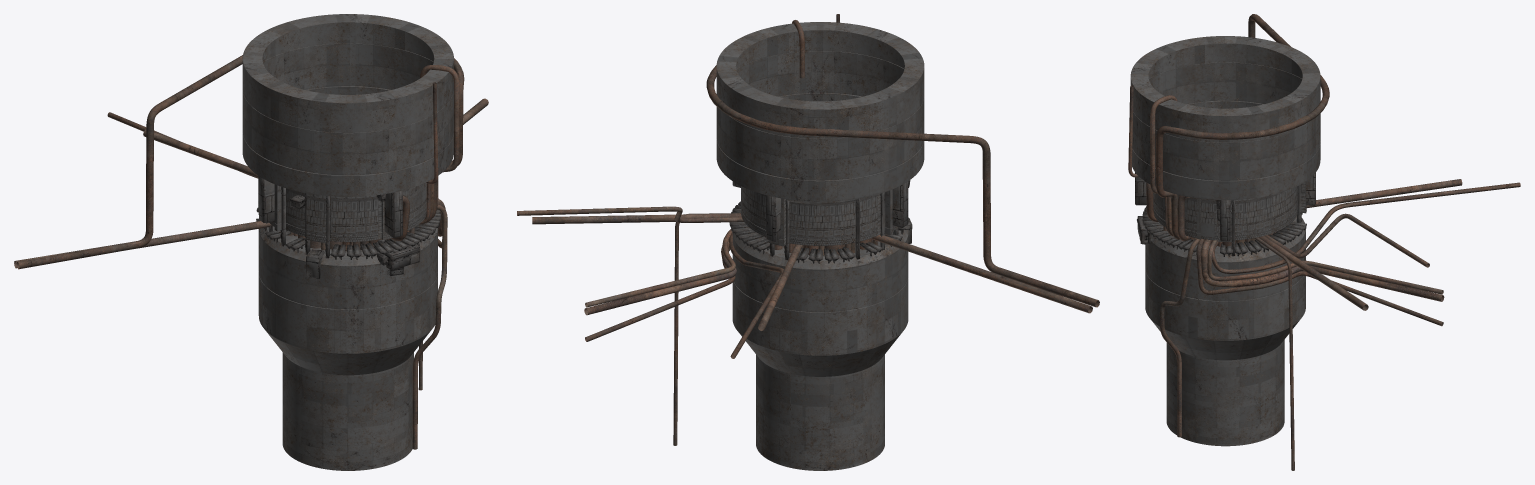
Rendered from CylinderTower1.fbx.
The picture shows the model from 3 angles, left to right: view 1: azimuth 30°, elevation 25°; view 2: azimuth 150°, elevation 25°; view 3: azimuth 270°, elevation 25°; orthographic projection. The views are drawn at different scales.
Parts seen in each view (by area): view 1: Circle, Circle.001, Cylinder, pip.013, CityAsset-3-Apartments_3.026, pip.017, pip.012, pip.009, pip.011, Techblock-9.026, Techblock-9.023, Techblock-9.031; view 2: Circle, Circle.001, Cylinder, pip.013, pip.012, CityAsset-3-Apartments_3.026, pip.015, pip.016, pip.008, pip.007, pip.010, pip.003 (+4 smaller); view 3: Circle, Circle.001, Cylinder, pip.013, pip.008, pip.002, CityAsset-3-Apartments_3.026, pip.007, pip.003, pip.017, pip.011, pip.010 (+5 smaller).
Boxes of the visible parts, x1,y1,x2,y2 form: Circle: (242,14,453,196); Circle.001: (258,226,437,470); Cylinder: (266,182,426,242); pip.013: (16,55,464,269); CityAsset-3-Apartments_3.026: (256,207,440,259); pip.017: (412,204,447,449); pip.012: (14,221,272,268); pip.009: (420,65,459,222); pip.011: (143,129,258,177); Techblock-9.026: (384,190,402,237); Techblock-9.023: (258,176,274,223); Techblock-9.031: (374,239,420,270); Circle: (716,22,924,201); Circle.001: (732,229,908,470); Cylinder: (741,186,900,246); pip.013: (706,65,1099,307); pip.012: (871,235,1092,313); CityAsset-3-Apartments_3.026: (729,201,910,263); pip.015: (532,213,741,224); pip.016: (517,206,743,222); pip.008: (584,240,736,315); pip.007: (585,229,735,307); pip.010: (673,213,740,445); pip.003: (585,248,735,341); Circle: (1130,36,1320,200); Circle.001: (1145,216,1305,446); Cylinder: (1153,181,1306,241); pip.013: (1156,14,1329,239); pip.008: (1201,239,1444,301); pip.002: (1212,182,1520,273); CityAsset-3-Apartments_3.026: (1142,206,1306,256); pip.007: (1207,240,1443,294); pip.003: (1196,238,1443,326); pip.017: (1159,238,1199,437); pip.011: (1306,179,1462,207); pip.010: (1254,237,1294,470).
Bounding box in the file's own units: 1017 × 725 × 735.
